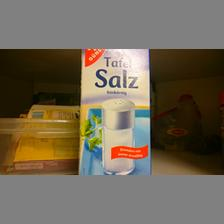Gewuerze: (79, 48, 151, 174)
